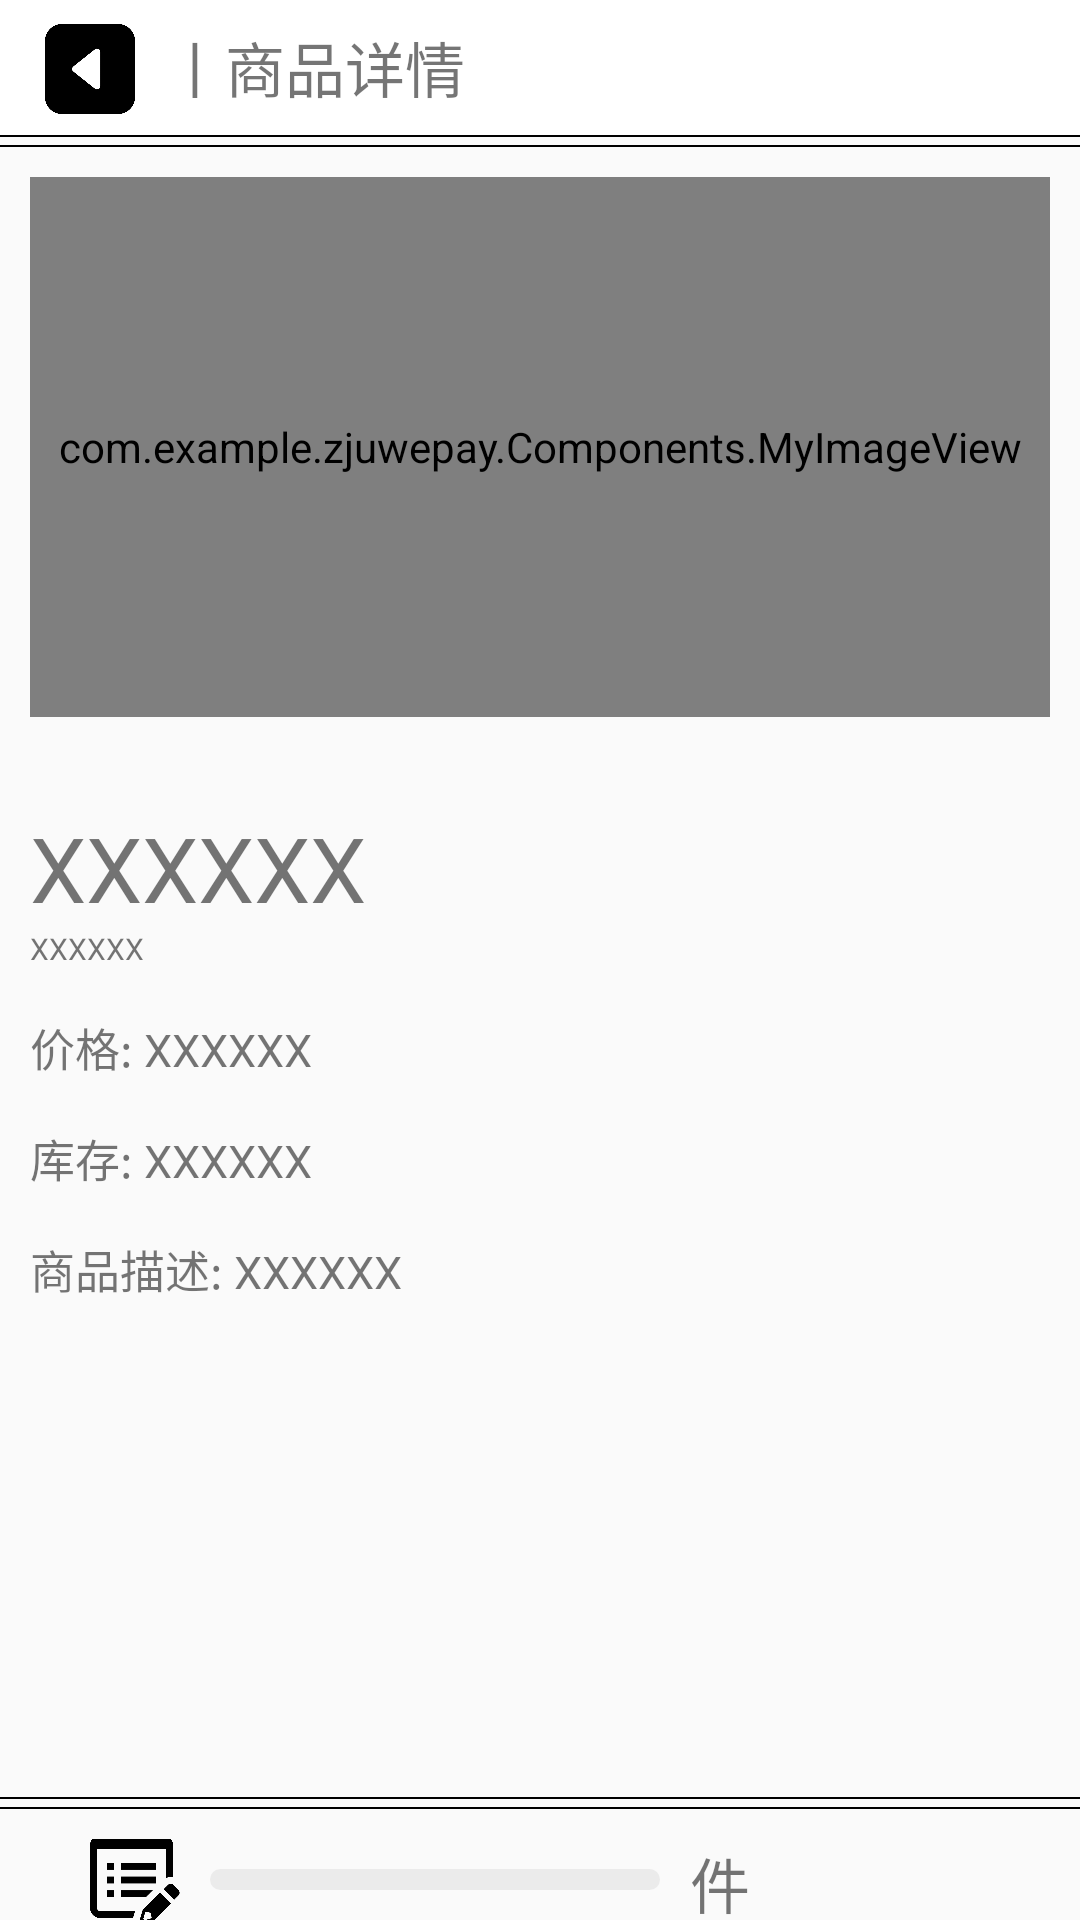

Screen size 1080*1920. Icon name, then its box in pixels as (x1, y1, x2, y2):
back: (45, 24, 135, 114)
edit talk: (90, 1839, 180, 1920)
